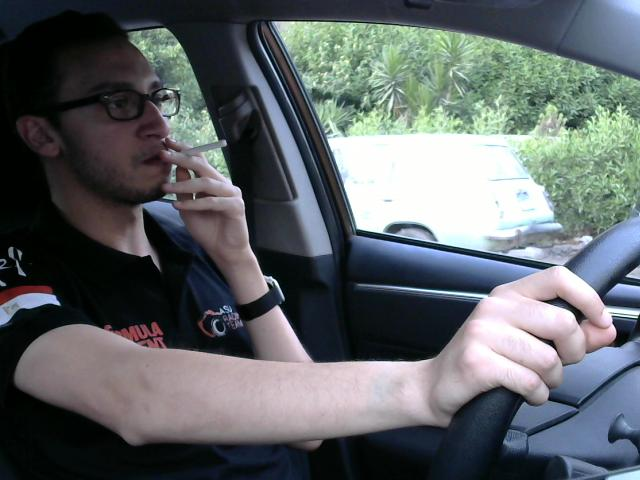Smoking: (162, 135, 231, 168)
